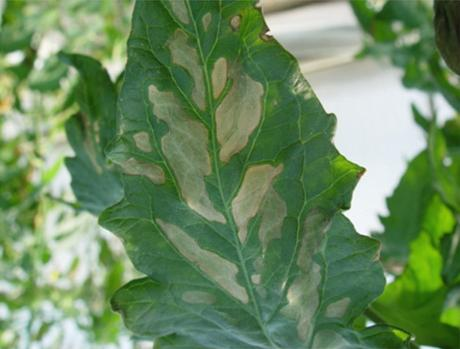Tomato leaf bacterial spot: (101, 3, 394, 343)
